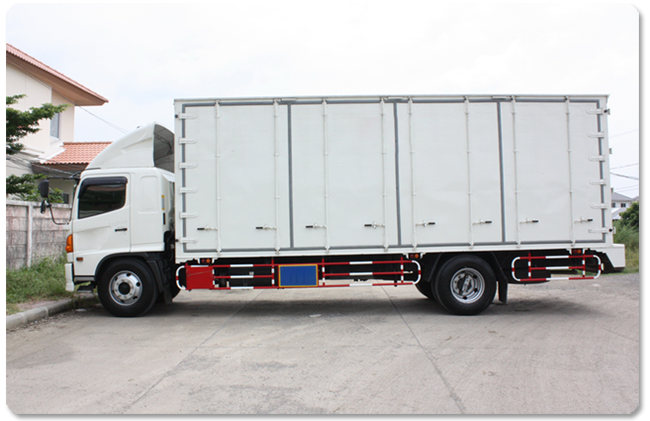truck: (66, 92, 626, 316)
